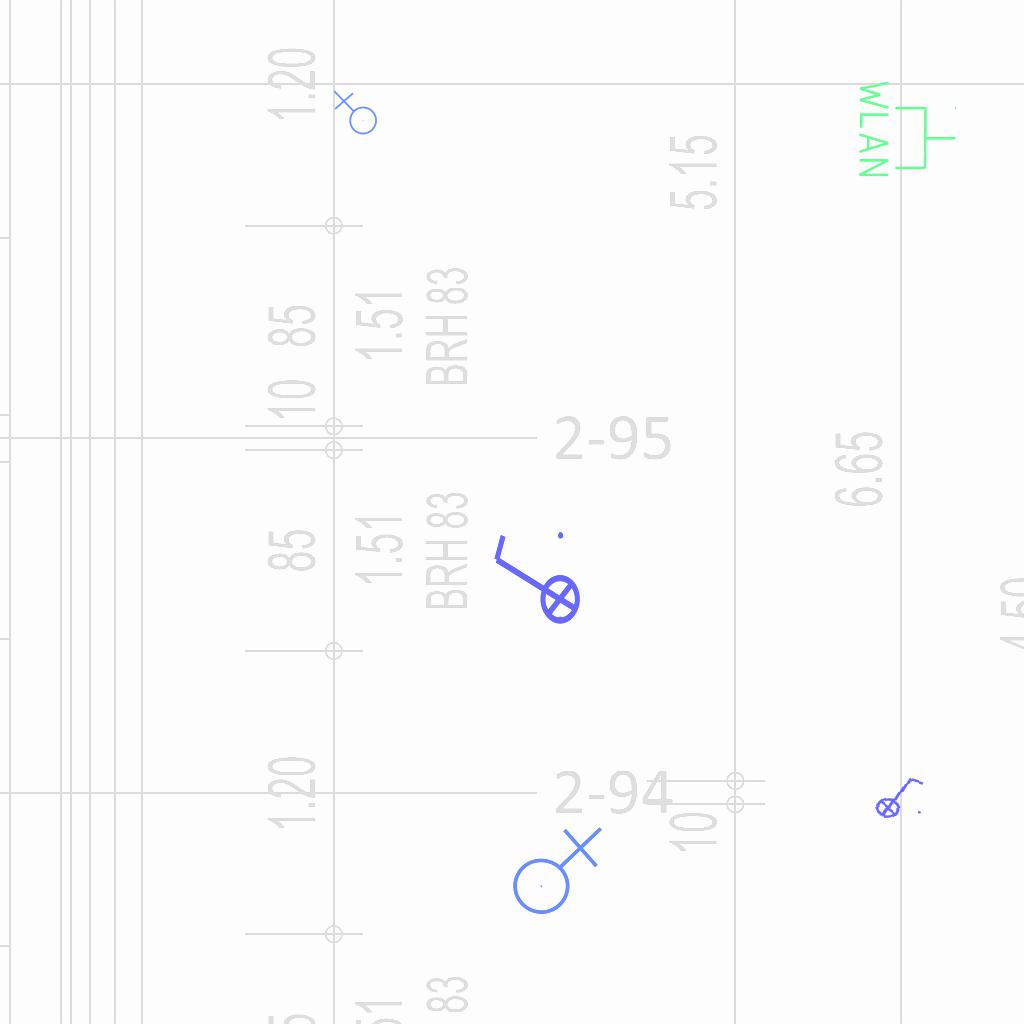Ausschalter_beleuchtet: (486, 526, 582, 638), (867, 768, 929, 824)
Elektroanschluss_allgemein_230V_Geraeteanschlussdose_230V: (504, 822, 603, 916), (331, 90, 378, 139)
WLAN: (855, 76, 959, 181)
